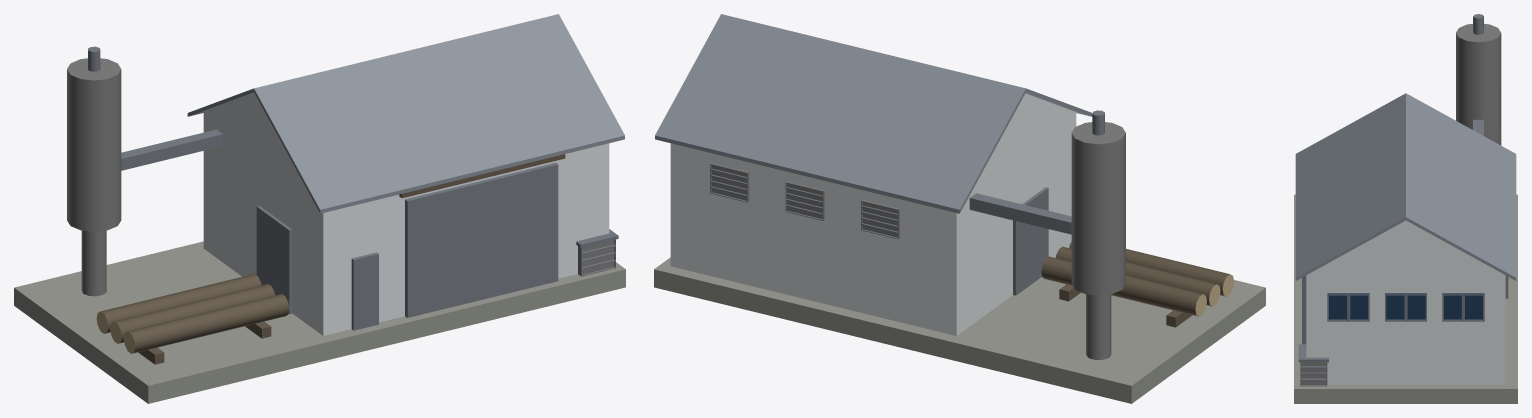
The model's file is mashup-main-mid-prebuilt_close.fbx.
The picture shows the model from 3 angles, left to right: view 1: azimuth 30°, elevation 25°; view 2: azimuth 150°, elevation 25°; view 3: azimuth 270°, elevation 25°; orthographic projection. The views are drawn at different scales.
Parts seen in each view (by area): view 1: a1016.Main.001; view 2: a1016.Main.001; view 3: a1016.Main.001.
Part boxes in pixels (bbox=[...]): a1016.Main.001: bbox=[14, 14, 625, 403]; a1016.Main.001: bbox=[654, 14, 1265, 403]; a1016.Main.001: bbox=[1294, 14, 1517, 403].
Bounding box in the file's own units: 15.2 × 7.9 × 7.4.
